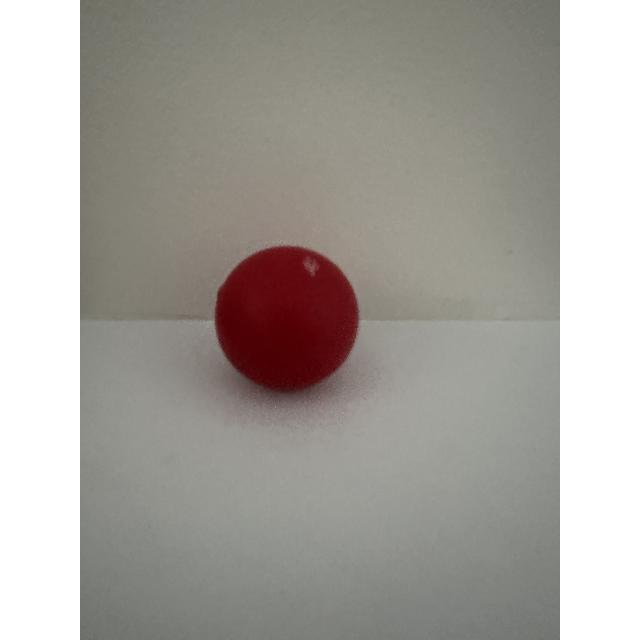red_ball: (209, 219, 387, 419)
